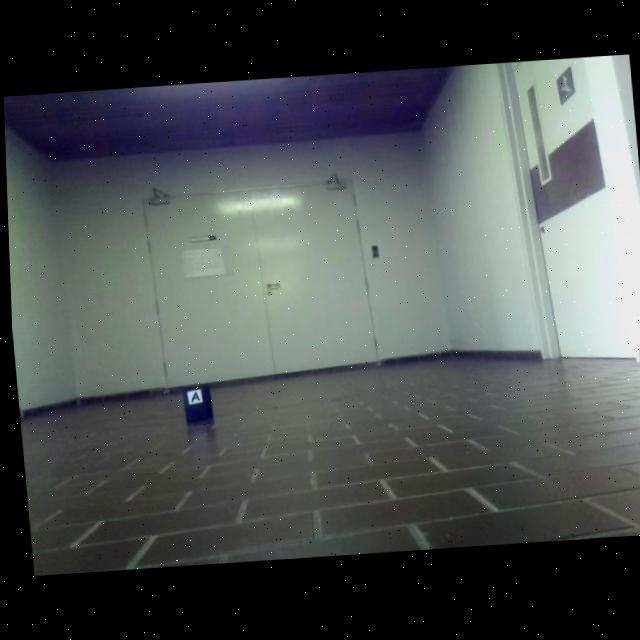A: (188, 391, 198, 403)
